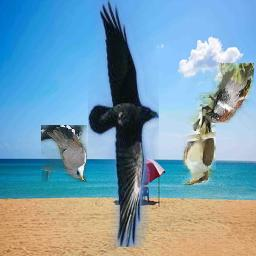Crow: (89, 0, 160, 247)
Cuckoo: (182, 93, 216, 186), (41, 126, 87, 183)
Sparrow: (206, 63, 255, 123)
